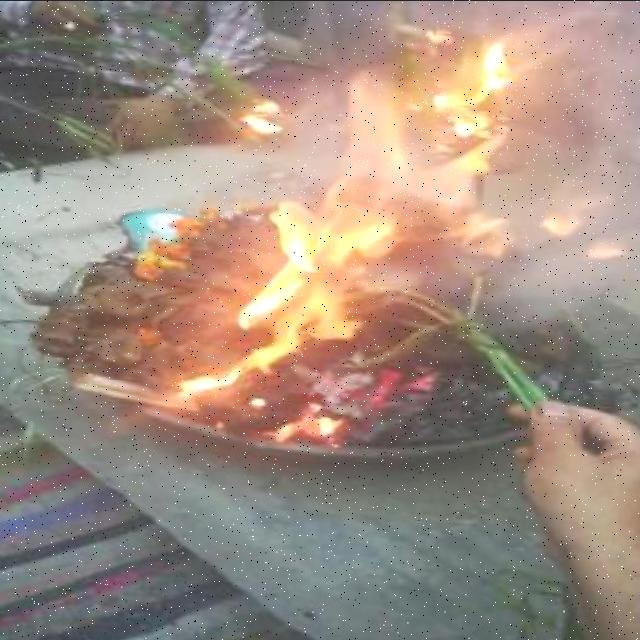fire: (233, 42, 549, 286), (213, 247, 381, 385), (141, 356, 259, 422), (254, 397, 359, 458)
